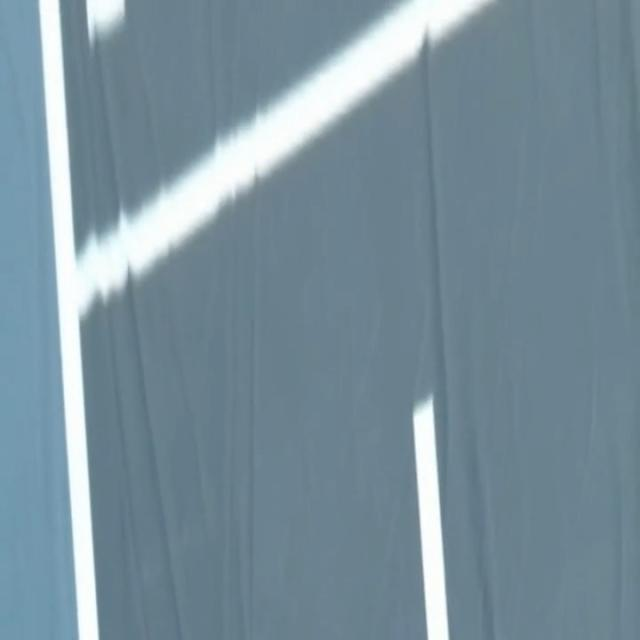center: (413, 396, 449, 639)
left: (38, 0, 99, 639)
